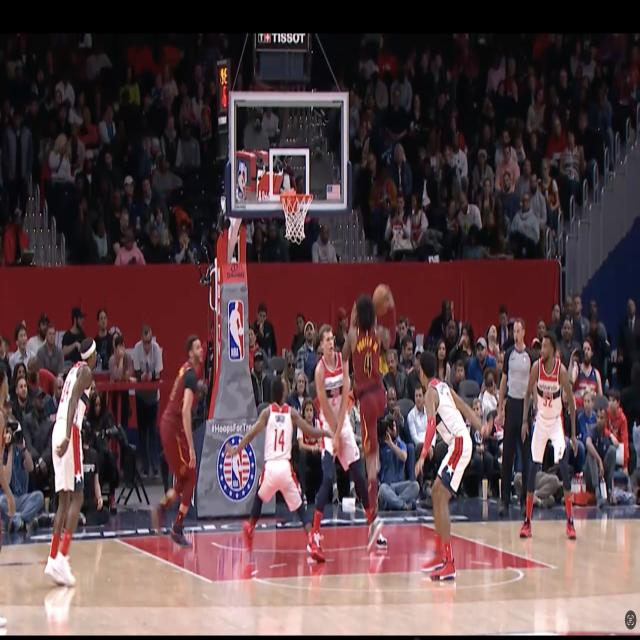no foul: (298, 280, 396, 558)
